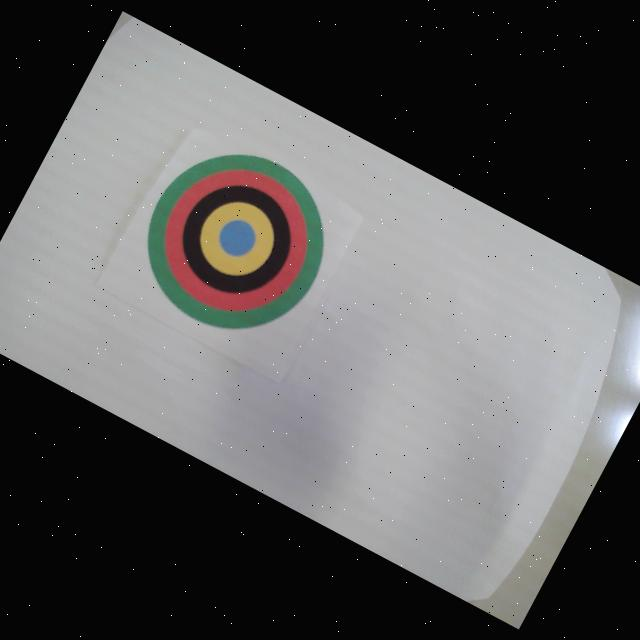COGNITIVE: (116, 122, 354, 360)
